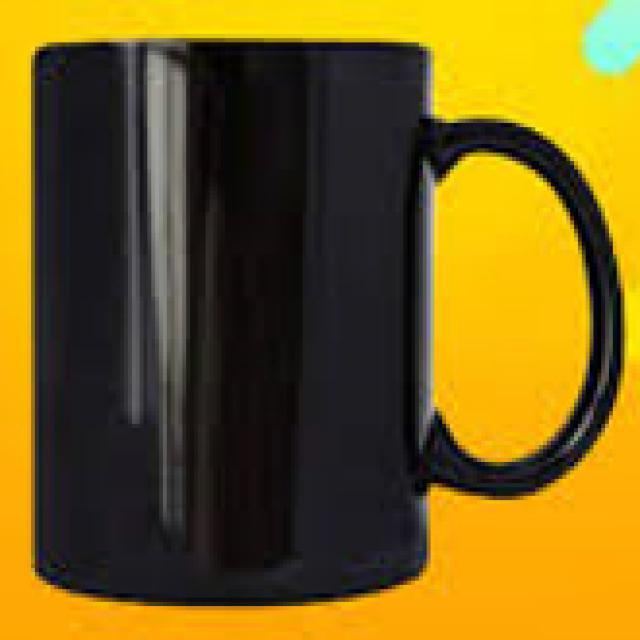taza: (28, 36, 624, 614)
